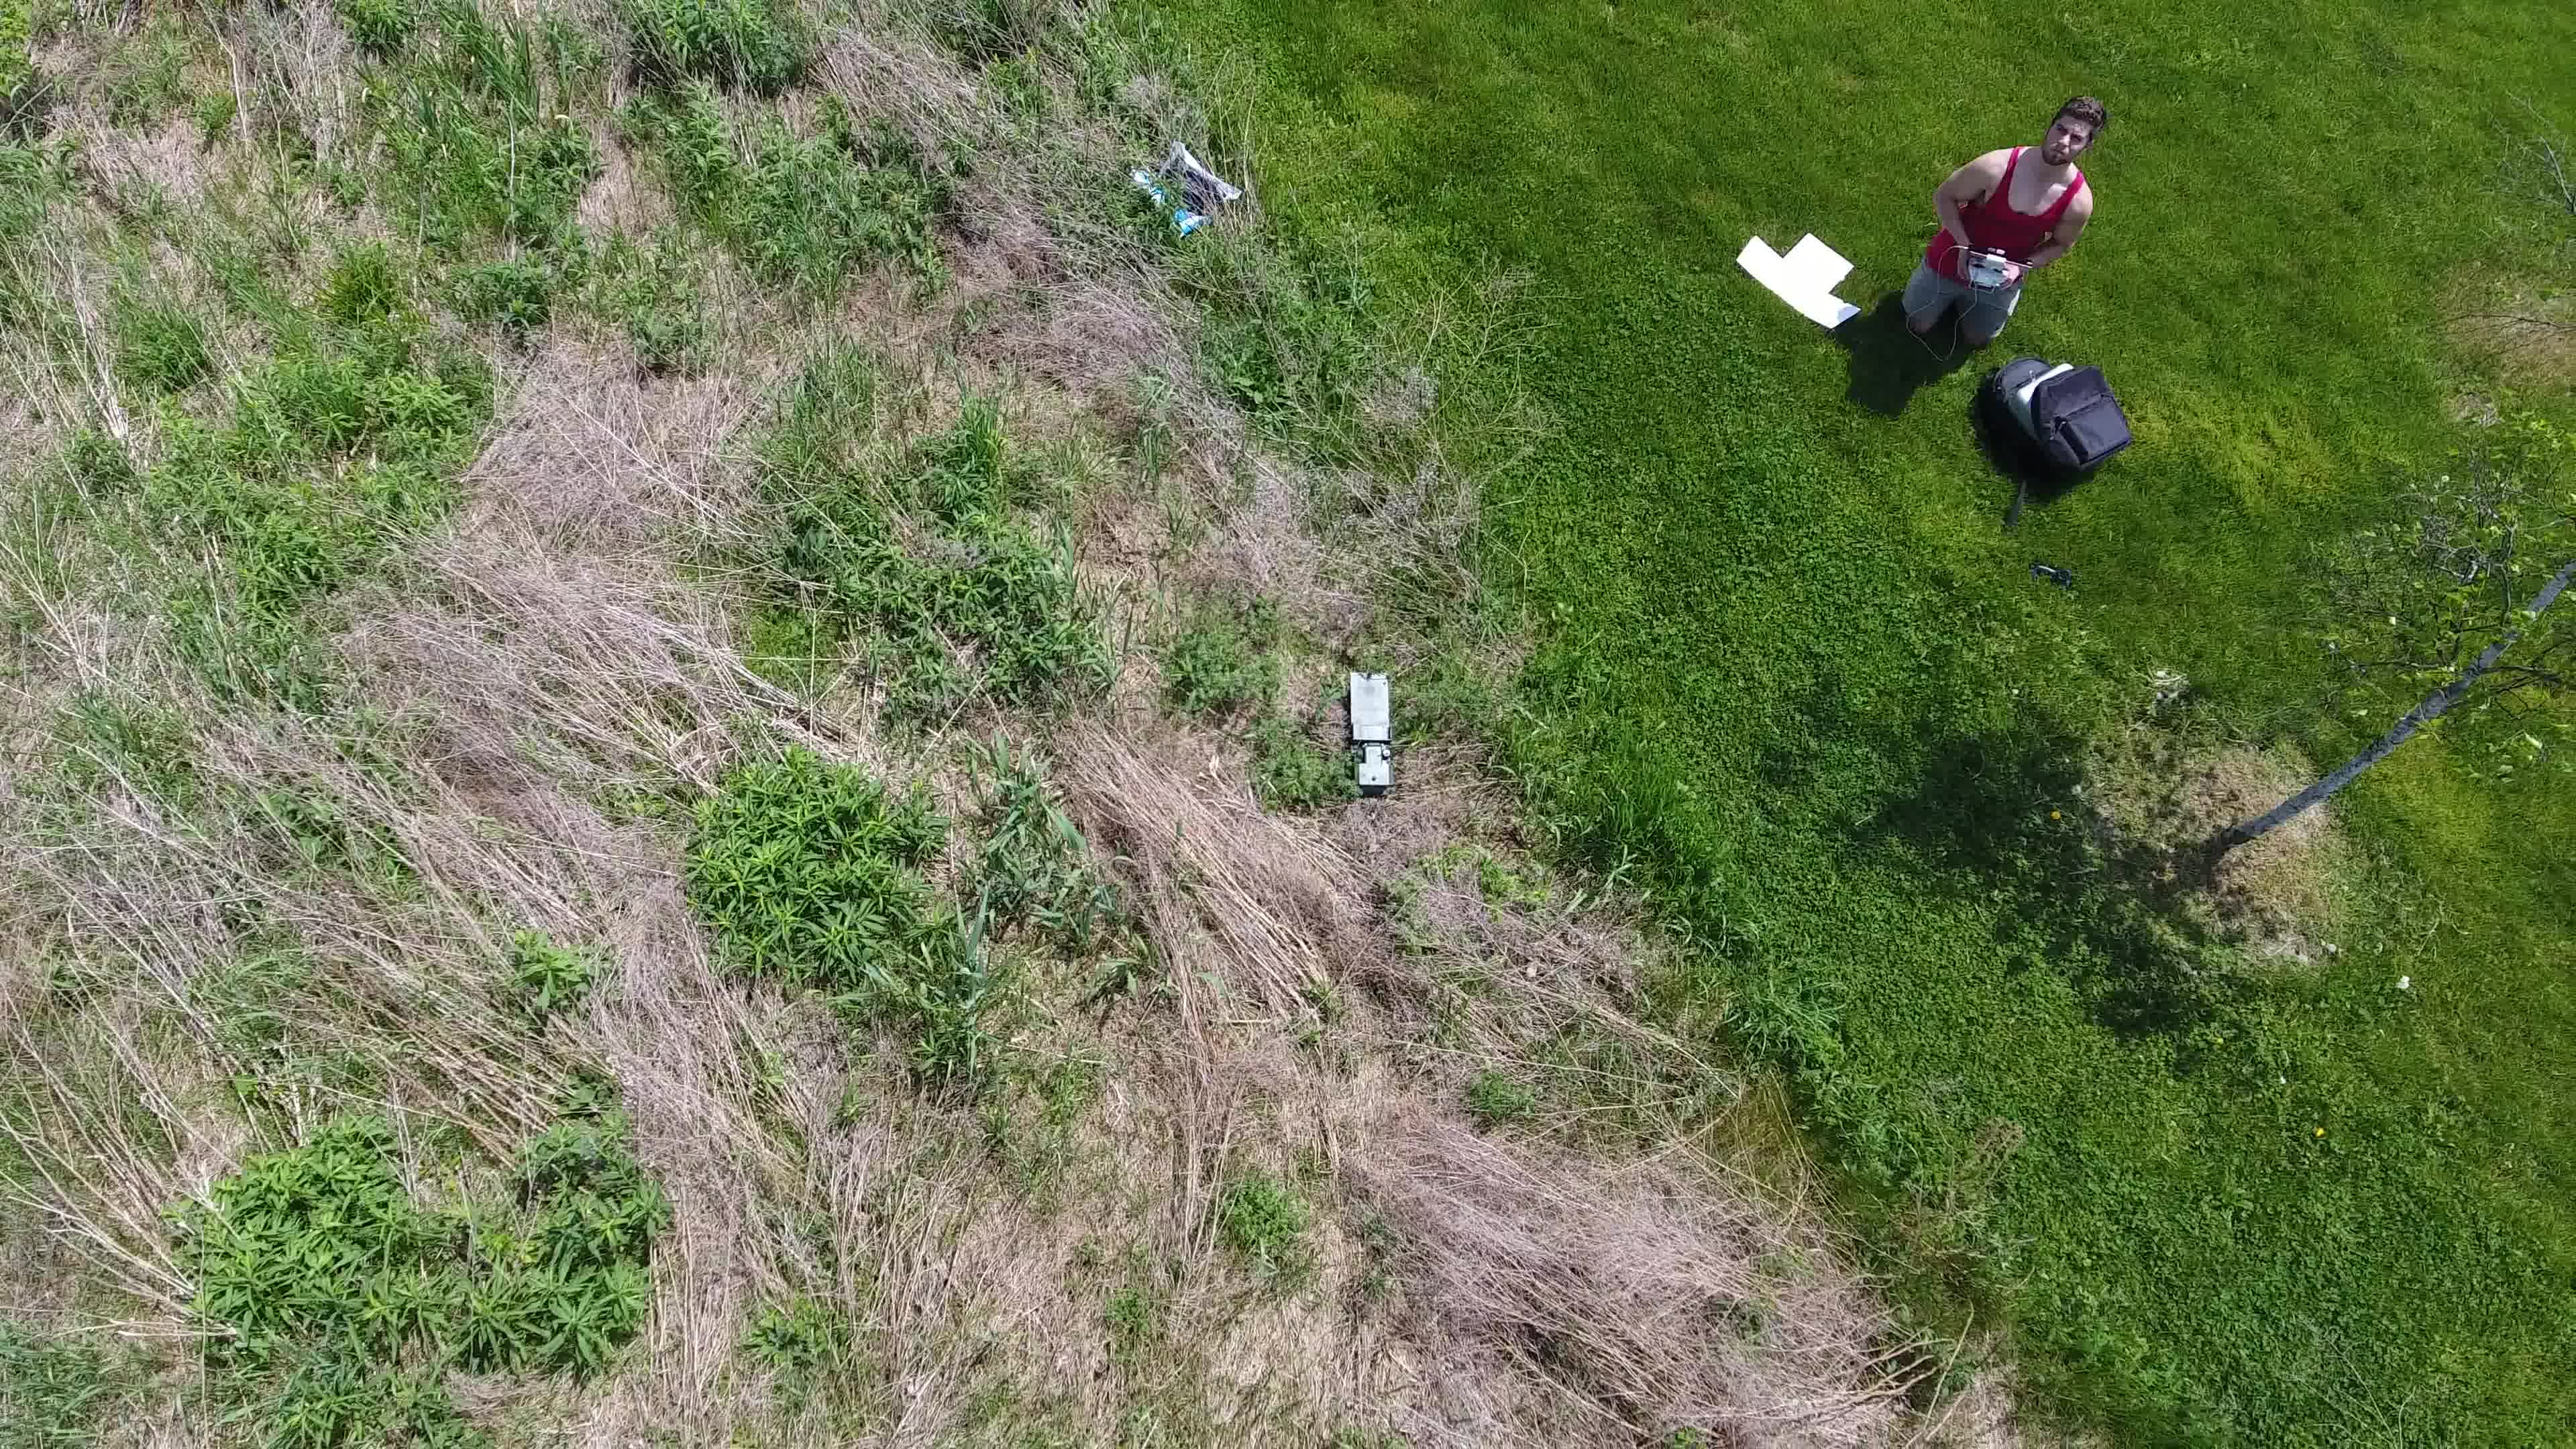transporter9: (1339, 671, 1396, 794)
